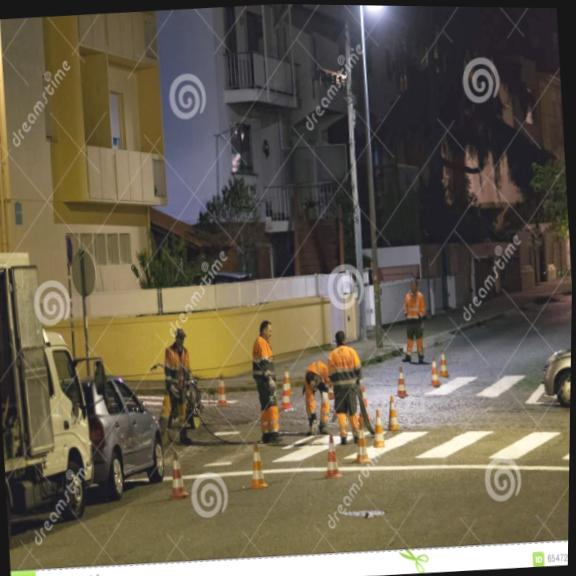safety_vest: (246, 337, 279, 405), (326, 343, 365, 395), (399, 290, 429, 329)
